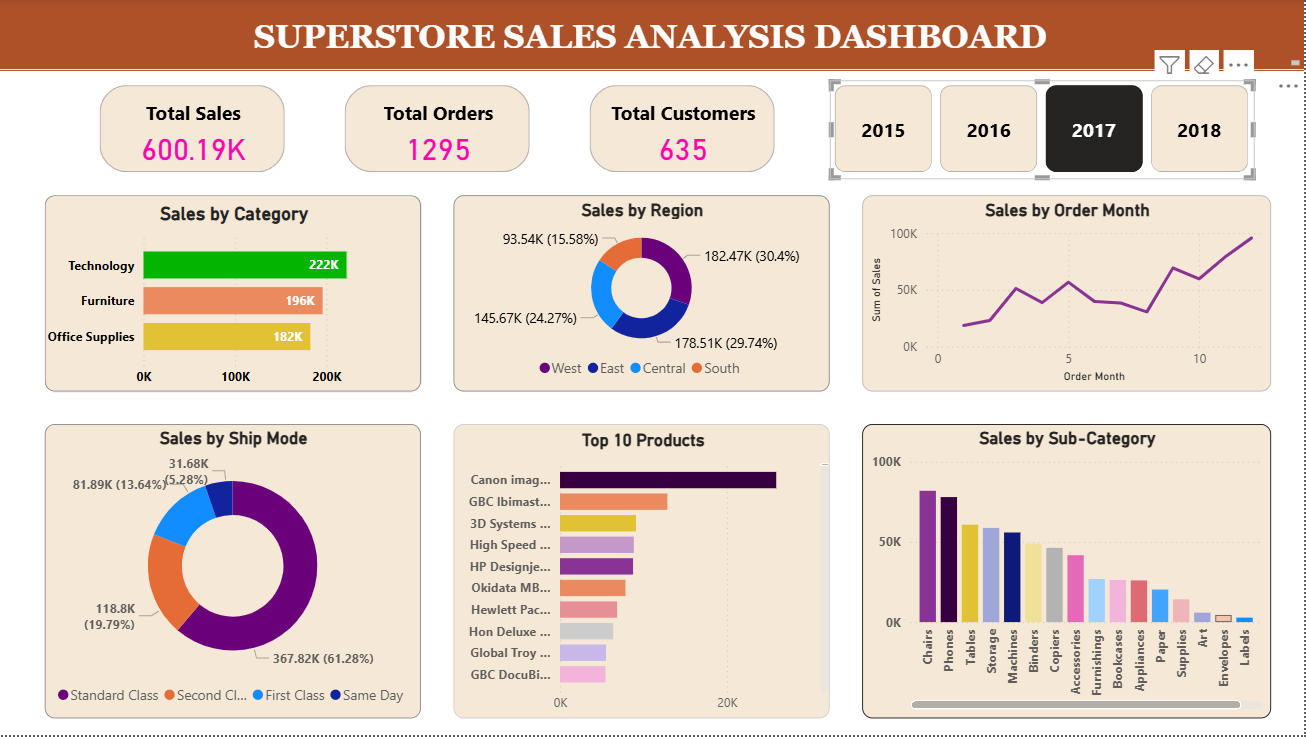

Layout of this report page (visuals, bound fields, positions):
{"tool":"powerbi","page":{"name":"Page 1","canvas":[1280,720],"ordinal":0},"visuals":[{"type":"advancedSlicerVisual","fields":{"Values":["sales_modified.Order Year"]},"box":[816,80,416,96],"z":0},{"type":"cardVisual","fields":{"Data":["Sum(sales_modified.Sales)"]},"box":[96,80,192,96],"z":1000},{"type":"textbox","title":"SUPERSTORE SALES ANALYSIS DASHBOARD","box":[0,0,1280,70],"z":2000},{"type":"cardVisual","fields":{"Data":["sales_modified.Total Orders"]},"box":[336,80,192,96],"z":2001},{"type":"cardVisual","fields":{"Data":["sales_modified.Total Customers"]},"box":[576,80,192,96],"z":2002},{"type":"barChart","title":"Sales by Category","fields":{"Category":["sales_modified.Category"],"Y":["Sum(sales_modified.Sales)"]},"box":[48,192,368,192],"z":2003},{"type":"donutChart","title":"Sales by Region","fields":{"Category":["sales_modified.Region"],"Y":["Sum(sales_modified.Sales)"]},"box":[448,192,368,192],"z":2004},{"type":"donutChart","title":"Sales by Ship Mode","fields":{"Category":["sales_modified.Ship Mode"],"Y":["Sum(sales_modified.Sales)"]},"box":[48,416,368,288],"z":2005},{"type":"barChart","title":"Top 10 Products","fields":{"Category":["sales_modified.Product Name"],"Y":["Sum(sales_modified.Sales)"]},"box":[448,416,368,288],"z":2006},{"type":"columnChart","title":"Sales by Sub-Category","fields":{"Category":["sales_modified.Sub-Category"],"Y":["Sum(sales_modified.Sales)"]},"box":[848,416,400,288],"z":2007},{"type":"lineChart","title":"Sales by Order Month","fields":{"Category":["sales_modified.Order Month"],"Y":["Sum(sales_modified.Sales)"]},"box":[848,192,400,192],"z":2008}]}

Visuals, with their boxes in screenshot pixels (x1, y1, x2, y2), scaled from the page's 1280x720 canvas onto the 1306x739 screenshot:
advancedSlicerVisual - sales_modified.Order Year: 833, 82, 1257, 181
cardVisual - Sum(sales_modified.Sales): 98, 82, 294, 181
"SUPERSTORE SALES ANALYSIS DASHBOARD" textbox: 0, 0, 1305, 72
cardVisual - sales_modified.Total Orders: 343, 82, 539, 181
cardVisual - sales_modified.Total Customers: 588, 82, 784, 181
"Sales by Category" barChart: 49, 197, 424, 394
"Sales by Region" donutChart: 457, 197, 833, 394
"Sales by Ship Mode" donutChart: 49, 427, 424, 723
"Top 10 Products" barChart: 457, 427, 833, 723
"Sales by Sub-Category" columnChart: 865, 427, 1273, 723
"Sales by Order Month" lineChart: 865, 197, 1273, 394
